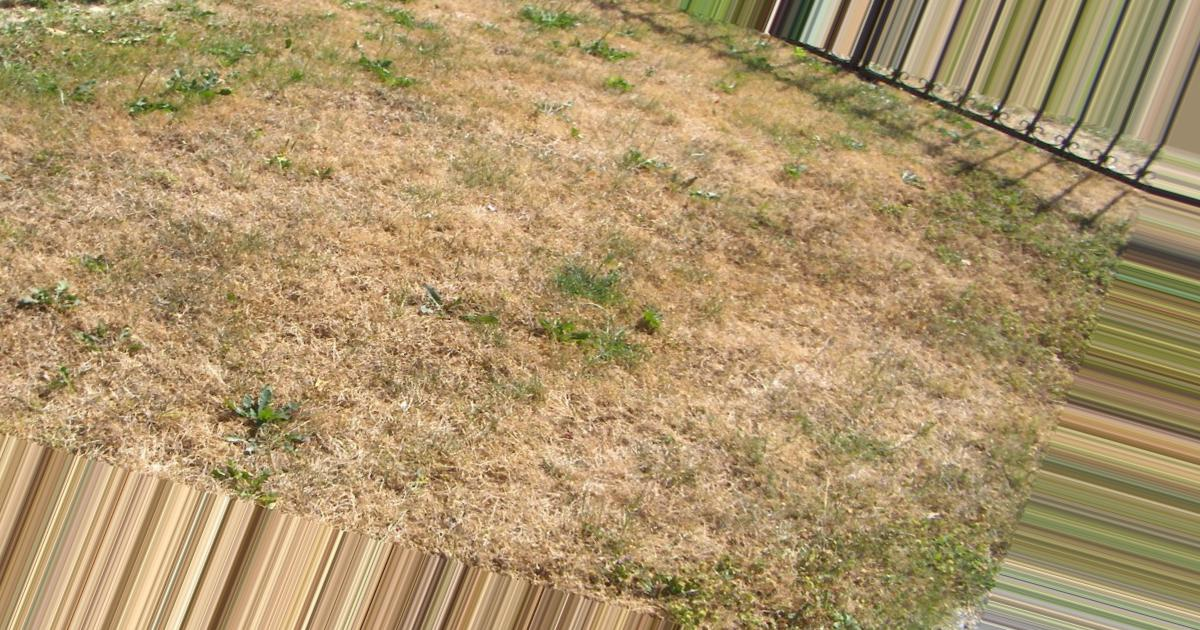patch: (20, 115, 784, 390), (809, 140, 941, 437), (370, 410, 738, 503), (498, 19, 691, 122)
